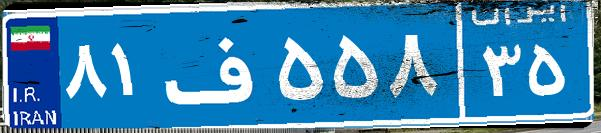1: (110, 28, 158, 105)
3: (475, 38, 525, 113)
5: (273, 28, 330, 110), (330, 28, 385, 110), (525, 38, 570, 115)
8: (385, 28, 445, 110), (57, 26, 110, 107)
ف: (158, 15, 273, 115)
